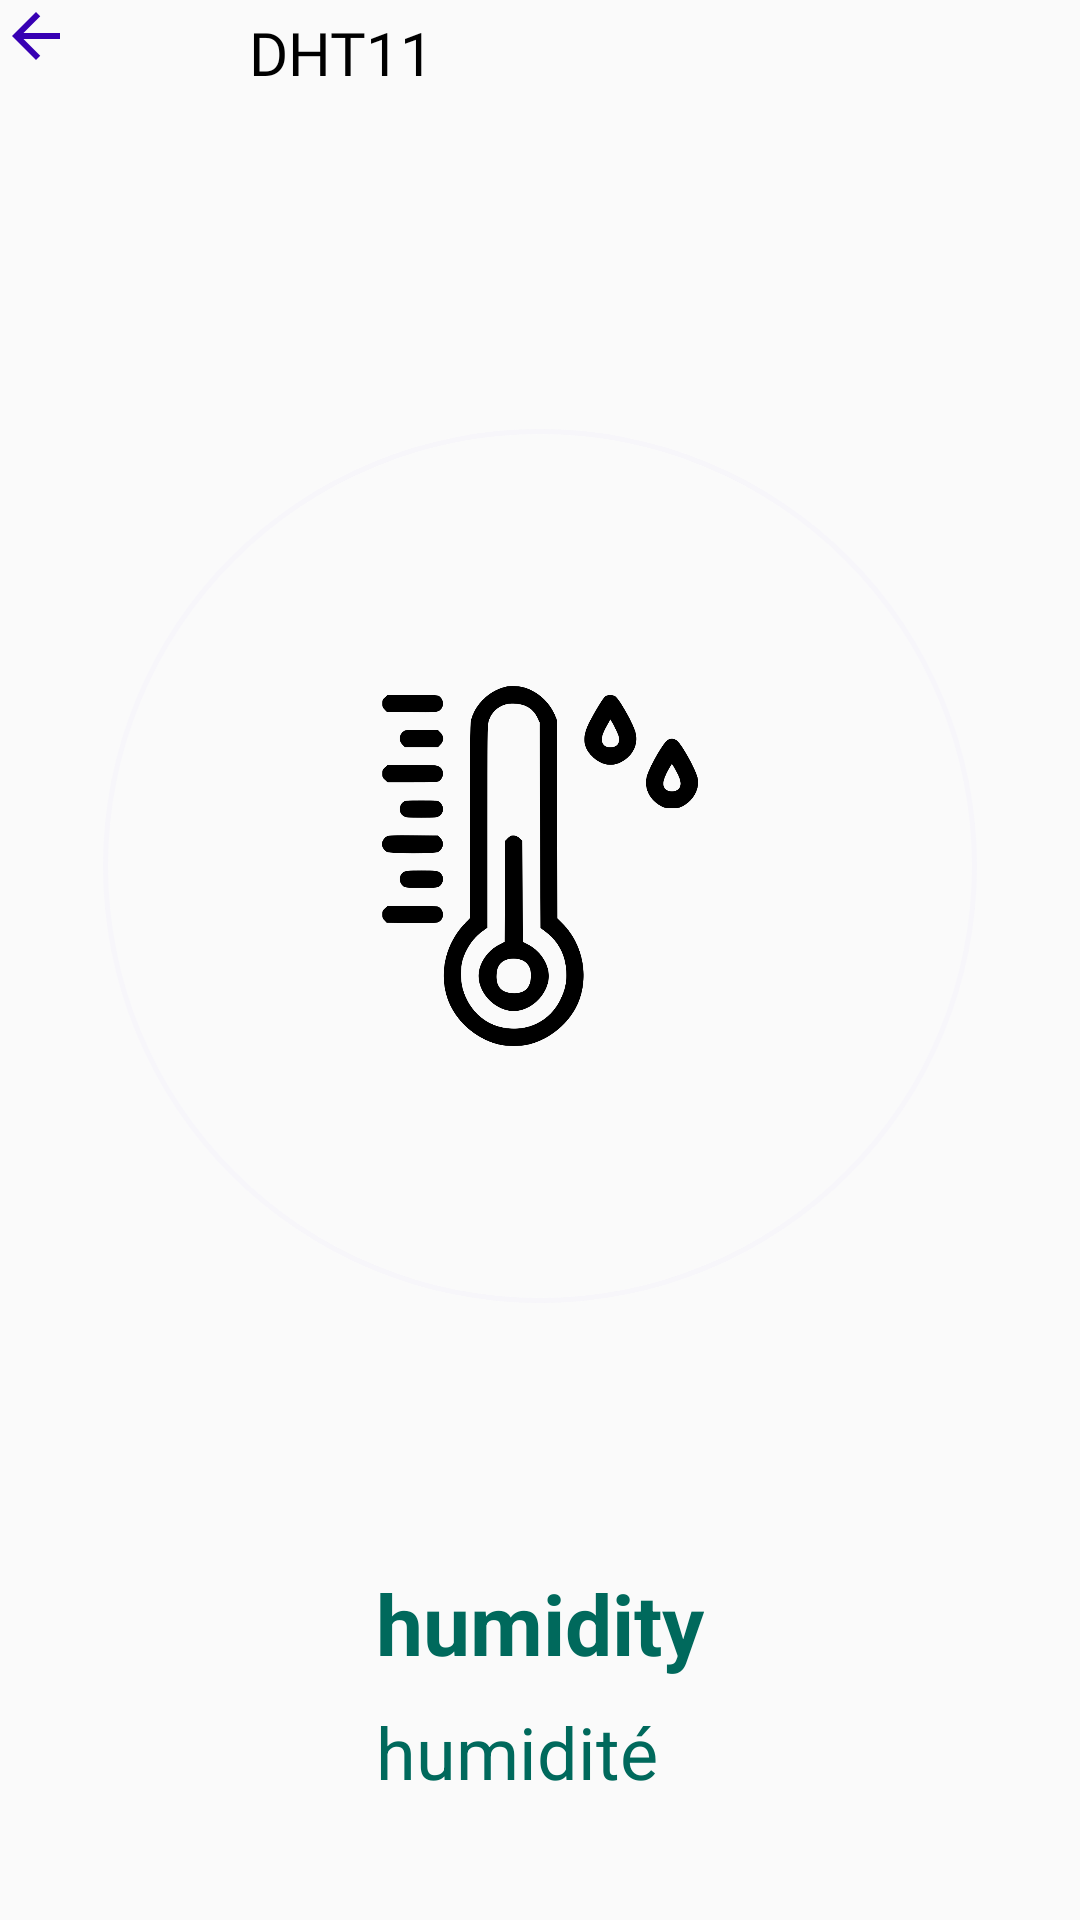

Named icons in this screenshot (1080x1920) and their centers, (x,y):
arrow back: (36,36)
